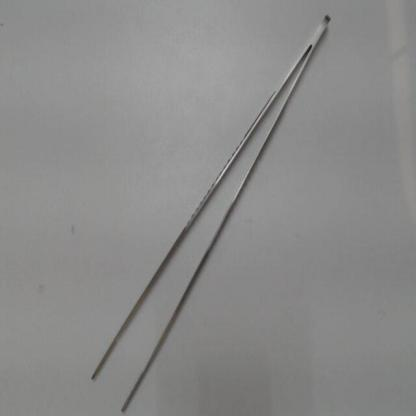DeBakey Dissector: (83, 8, 335, 411)
